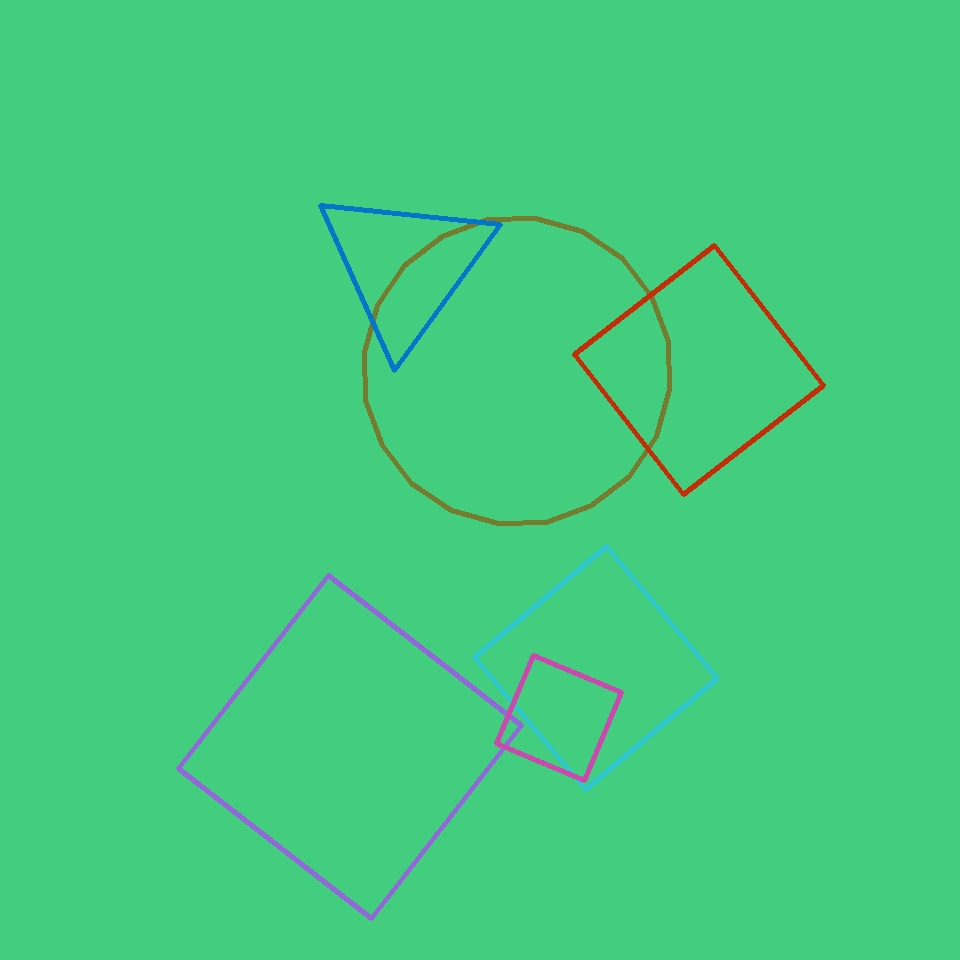circle: (315, 184, 495, 350)
square: (178, 575, 522, 918), (574, 246, 824, 494), (474, 546, 718, 790), (496, 656, 622, 780)
triangle: (365, 219, 670, 524)
